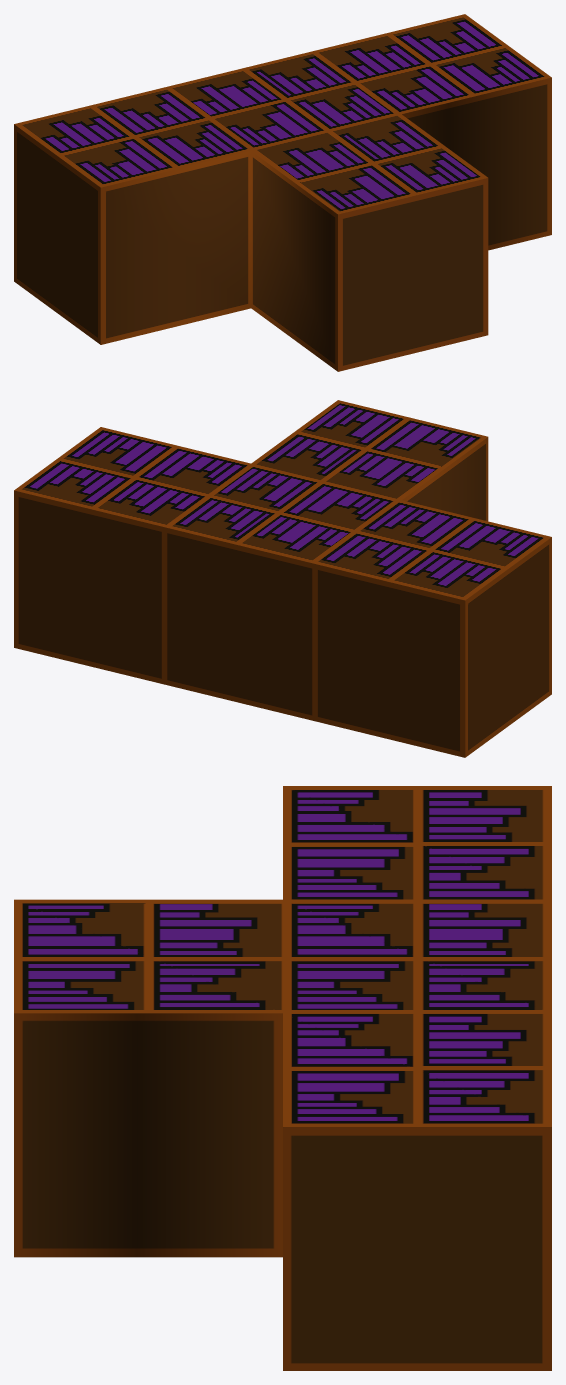
The model's file is TBlockR.fbx.
3 views of the same model, one above another, from view 1: azimuth 30°, elevation 25°; view 2: azimuth 150°, elevation 25°; view 3: azimuth 270°, elevation 25° (orthographic). The views are drawn at different scales.
Visible parts, largest first — view 1: Cube.004; view 2: Cube.004; view 3: Cube.004.
Part boxes in pixels (bbox=[...]): Cube.004: bbox=[14, 14, 551, 371]; Cube.004: bbox=[14, 400, 551, 757]; Cube.004: bbox=[14, 786, 551, 1370].
Bounding box in the file's own units: 12 × 4 × 8.
